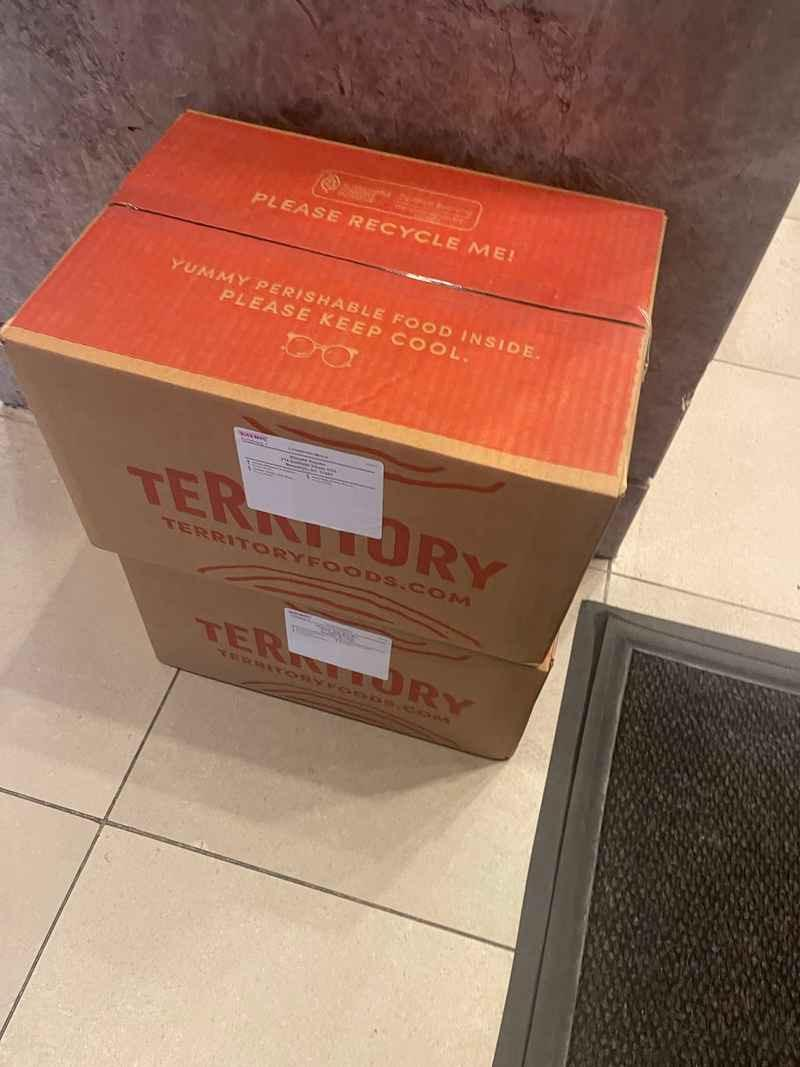package: (0, 103, 672, 672), (120, 538, 561, 765)
